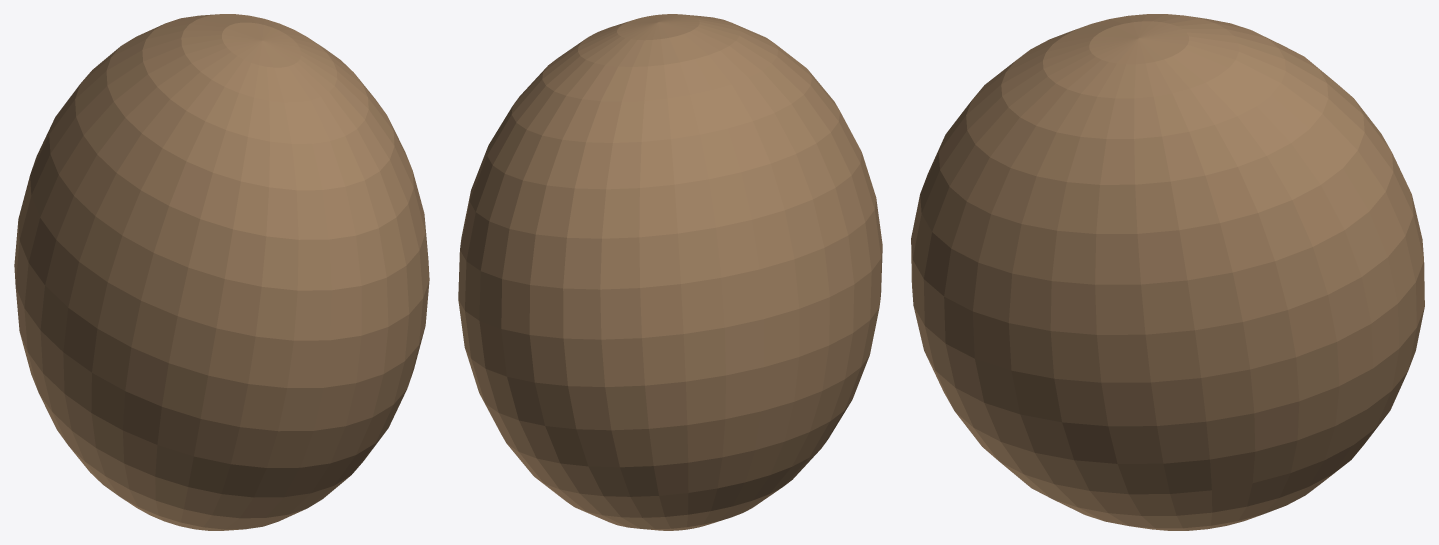
The model's file is ManoIzq_Jugador.obj.
3 renders of one model, left to right at view 1: azimuth 30°, elevation 25°; view 2: azimuth 150°, elevation 25°; view 3: azimuth 270°, elevation 25°, orthographic. The views are drawn at different scales.
Visible parts, largest first — view 1: ManoIzq_Jugador; view 2: ManoIzq_Jugador; view 3: ManoIzq_Jugador.
Part boxes in pixels (<box>): ManoIzq_Jugador: <box>14,14,429,530</box>; ManoIzq_Jugador: <box>458,14,882,530</box>; ManoIzq_Jugador: <box>911,14,1424,530</box>.
Bounding box in the file's own units: 0.7547 × 0.9977 × 0.9322.
Materials: 1 (1 with a texture image).
